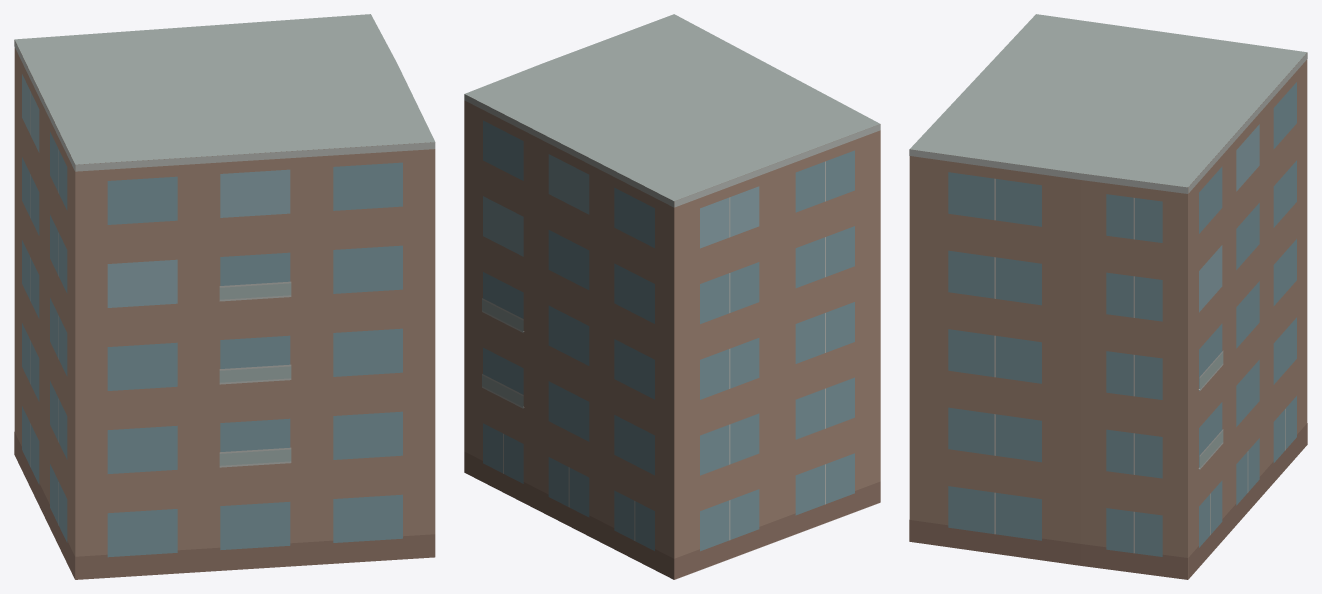
The model's file is survey-upis-32894363.glb.
The picture shows the model from 3 angles, left to right: view 1: azimuth 30°, elevation 25°; view 2: azimuth 150°, elevation 25°; view 3: azimuth 270°, elevation 25°; orthographic projection. The views are drawn at different scales.
Parts seen in each view (by area): view 1: survey-upis-32894363.tmp; view 2: survey-upis-32894363.tmp; view 3: survey-upis-32894363.tmp.
Part boxes in pixels (x1,y1,x2,y2): survey-upis-32894363.tmp: (14, 14, 435, 579); survey-upis-32894363.tmp: (464, 14, 880, 579); survey-upis-32894363.tmp: (909, 14, 1307, 579).
Size of the model in its own units: 13.75 by 14.5 by 13.34.
